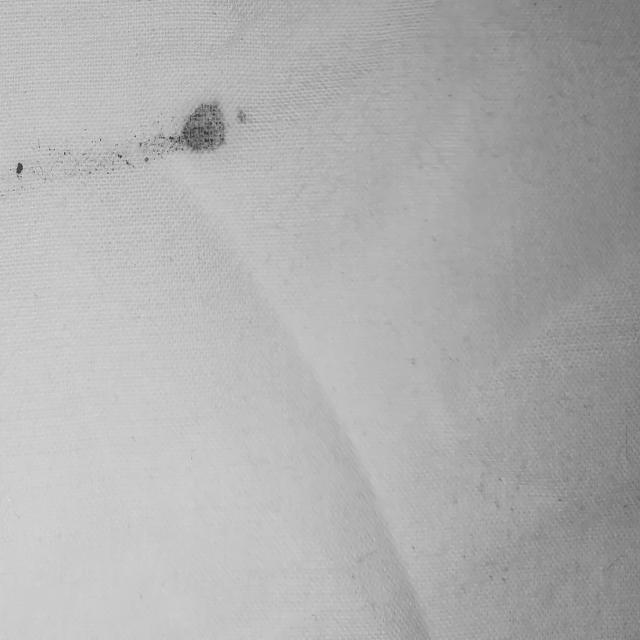Stain: (0, 99, 229, 191)
